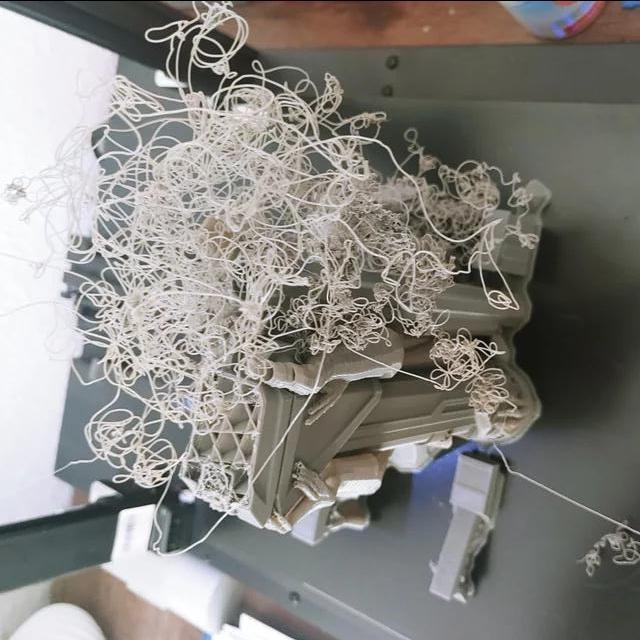Spaghetti: (84, 64, 250, 372), (248, 80, 350, 226), (338, 162, 480, 230), (248, 226, 338, 320), (92, 398, 182, 480), (318, 248, 384, 356), (386, 218, 452, 308), (160, 0, 242, 71), (442, 325, 506, 415), (579, 514, 640, 570)
